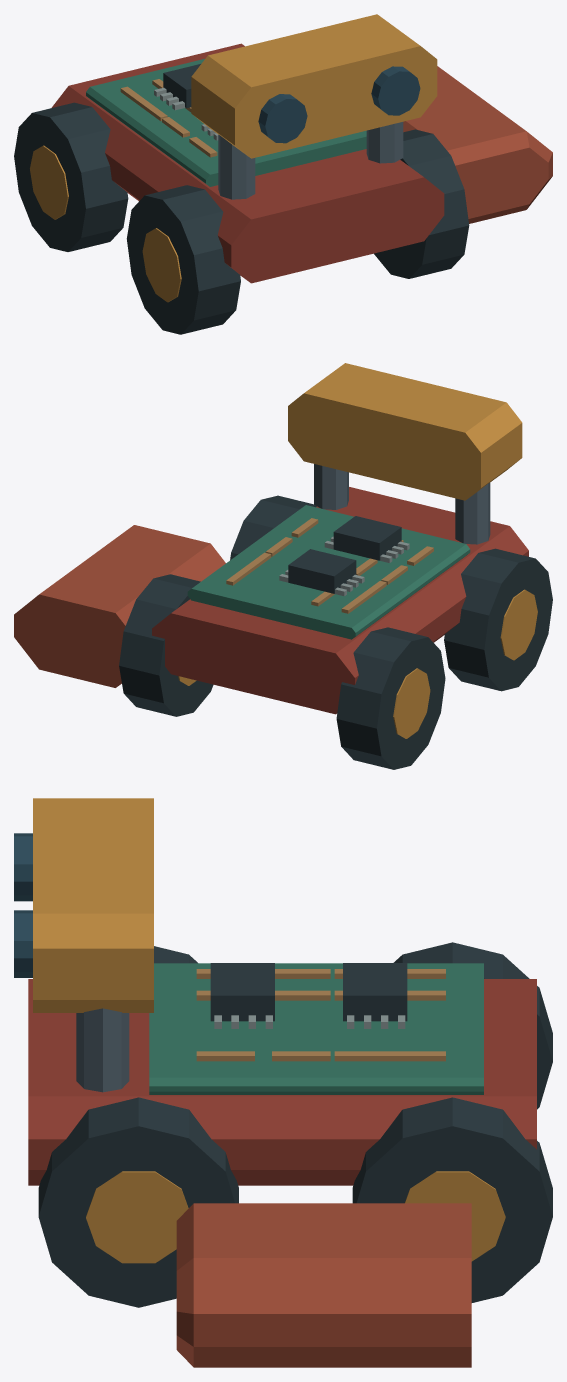
File: MR-04_survey_toy.glb
The picture shows the model from 3 angles, top to bottom: view 1: azimuth 30°, elevation 25°; view 2: azimuth 150°, elevation 25°; view 3: azimuth 270°, elevation 25°; orthographic projection. The views are drawn at different scales.
Visible parts, largest first — view 1: MR-04_survey_toy; view 2: MR-04_survey_toy; view 3: MR-04_survey_toy.
Part boxes in pixels (bbox=[...]): MR-04_survey_toy: bbox=[14, 14, 552, 334]; MR-04_survey_toy: bbox=[14, 363, 552, 769]; MR-04_survey_toy: bbox=[14, 798, 552, 1367].
Size of the model in its own units: 0.3495 by 0.21 by 0.285.
